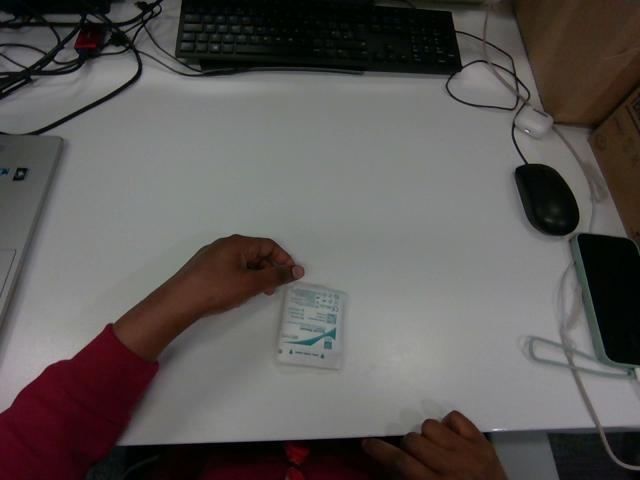gauze: (277, 282, 346, 368)
